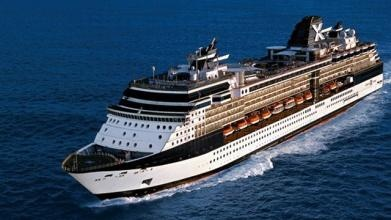youlun: (65, 15, 380, 193)
